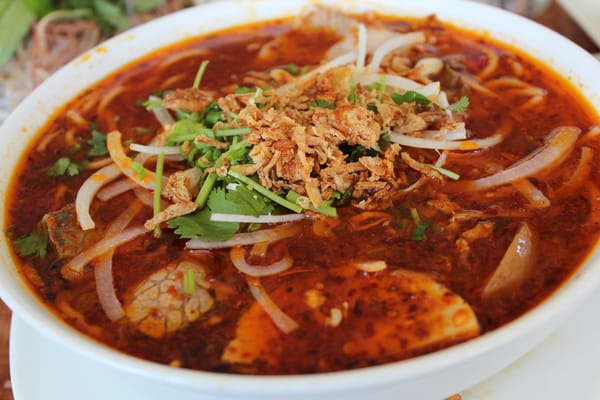sushi: (17, 36, 600, 392)
